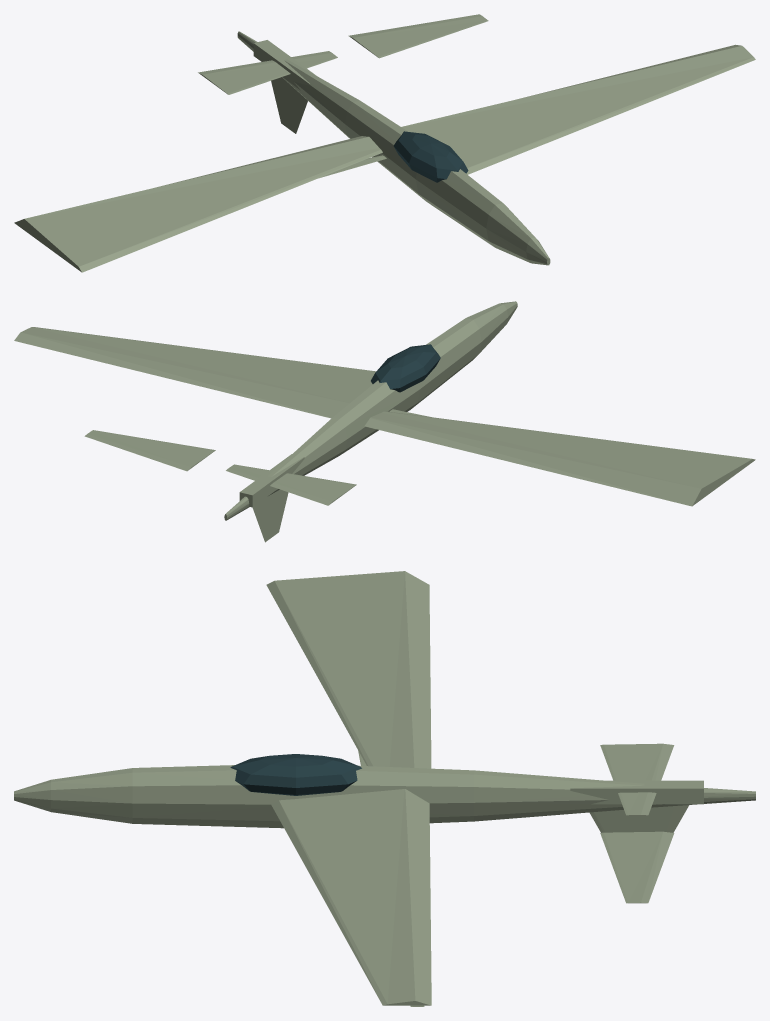
3 renders of one model, top to bottom at view 1: azimuth 30°, elevation 25°; view 2: azimuth 150°, elevation 25°; view 3: azimuth 270°, elevation 25°, orthographic. The views are drawn at different scales.
Visible parts, largest first — view 1: Wing_L, Wing_R, Fuselage, Elevator_R, Cockpit, Elevator_L, Rudder, TailBoom; view 2: Wing_L, Wing_R, Fuselage, Elevator_R, Cockpit, Elevator_L, Rudder, TailBoom; view 3: Fuselage, Wing_R, Wing_L, Cockpit, Elevator_R, Elevator_L, TailBoom, Rudder.
Boxes of the visible parts, bbox=[...] form: Wing_L: bbox=[14, 136, 382, 272]; Wing_R: bbox=[401, 44, 755, 174]; Fuselage: bbox=[237, 31, 550, 265]; Elevator_R: bbox=[348, 14, 488, 58]; Cockpit: bbox=[393, 131, 468, 182]; Elevator_L: bbox=[198, 51, 337, 94]; Rudder: bbox=[271, 77, 307, 133]; TailBoom: bbox=[253, 40, 316, 90]; Wing_L: bbox=[364, 411, 755, 506]; Wing_R: bbox=[14, 327, 375, 418]; Fuselage: bbox=[224, 301, 517, 520]; Elevator_R: bbox=[84, 430, 215, 471]; Cockpit: bbox=[371, 344, 440, 392]; Elevator_L: bbox=[226, 464, 356, 505]; Rudder: bbox=[252, 489, 288, 542]; TailBoom: bbox=[239, 454, 304, 507]; Fuselage: bbox=[14, 765, 755, 828]; Wing_R: bbox=[271, 789, 431, 1005]; Wing_L: bbox=[266, 571, 431, 768]; Cockpit: bbox=[230, 754, 361, 795]; Elevator_R: bbox=[600, 831, 674, 903]; Elevator_L: bbox=[600, 743, 674, 815]; TailBoom: bbox=[570, 780, 703, 804]; Rudder: bbox=[589, 805, 689, 832].
Bounding box in the file's own units: 30.43 × 3.6 × 22.6.
